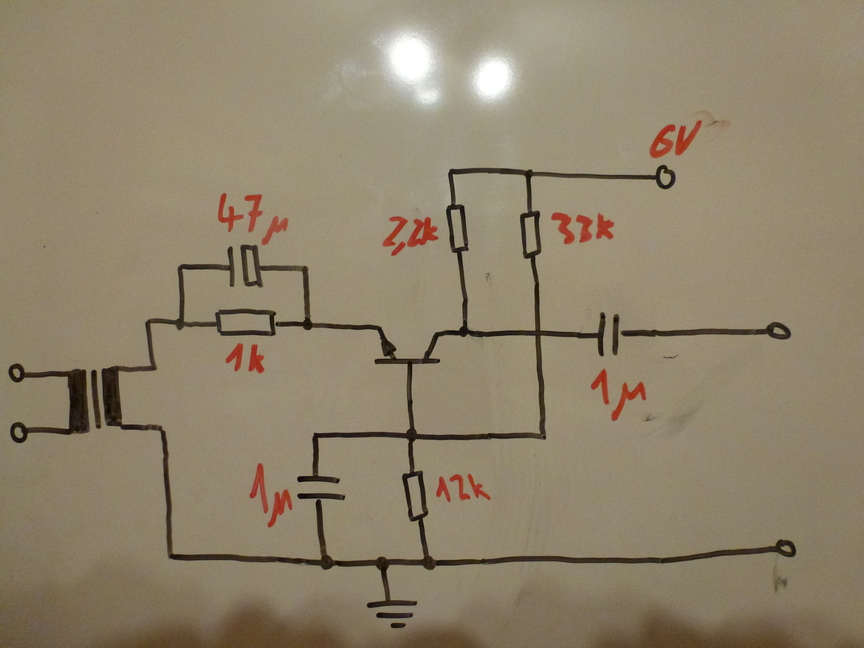capacitor.polarized: (215, 239, 273, 294)
capacitor.unpolarized: (291, 464, 350, 513), (586, 307, 634, 362)
crossover: (527, 322, 551, 343)
gnd: (363, 591, 420, 636)
junction: (313, 548, 339, 574), (369, 552, 397, 575), (415, 551, 440, 576), (296, 313, 320, 338), (169, 312, 194, 336), (453, 320, 477, 344), (401, 424, 423, 446), (531, 425, 553, 446), (518, 163, 540, 183), (295, 258, 315, 278), (153, 418, 171, 440), (160, 547, 180, 566), (442, 163, 464, 180), (144, 358, 163, 376), (140, 314, 158, 331), (174, 257, 190, 276), (308, 427, 324, 446)
resistor: (206, 301, 286, 342), (441, 197, 479, 260), (395, 464, 434, 525), (511, 204, 549, 264)
terminal: (762, 316, 796, 347), (651, 161, 681, 194), (770, 535, 803, 563), (6, 418, 32, 445), (4, 361, 29, 384)
text: (213, 187, 294, 246), (240, 458, 296, 528), (586, 365, 651, 424), (377, 210, 441, 259), (551, 207, 617, 250), (646, 118, 706, 163), (219, 341, 273, 379), (434, 471, 494, 505)
transformer: (60, 362, 133, 441)
transistor: (367, 318, 449, 381)
